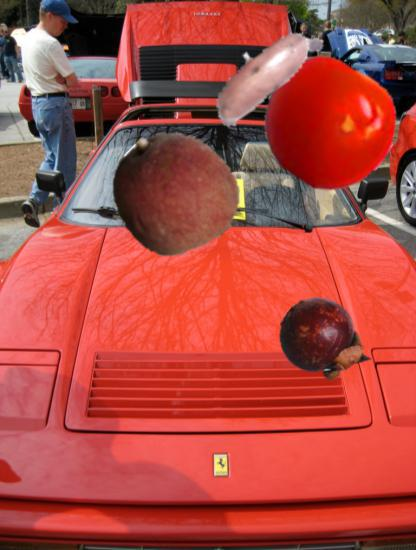Banana: (199, 5, 331, 137)
Mangostan: (277, 294, 373, 390)
Peach: (111, 131, 238, 258)
Tomato: (264, 59, 394, 189)
